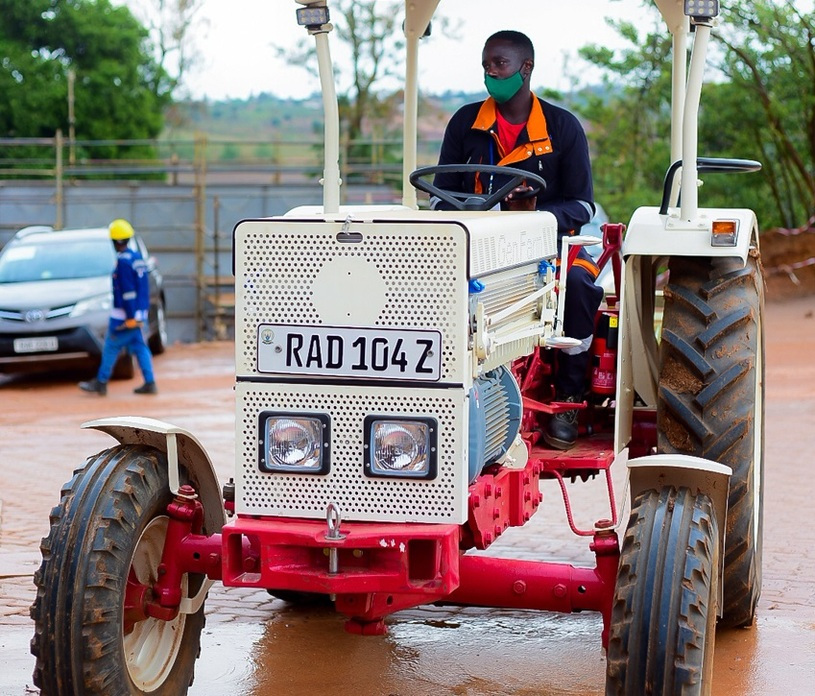tractor: (28, 0, 767, 694)
